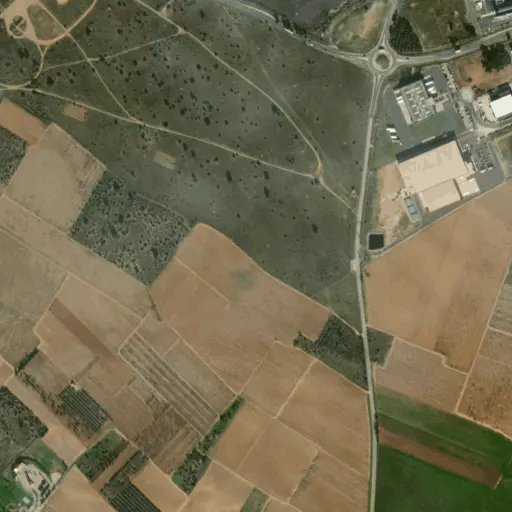wt: (130, 272, 175, 341)
